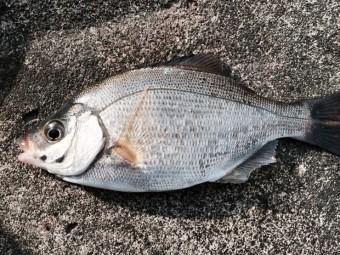fish: (16, 54, 339, 194)
